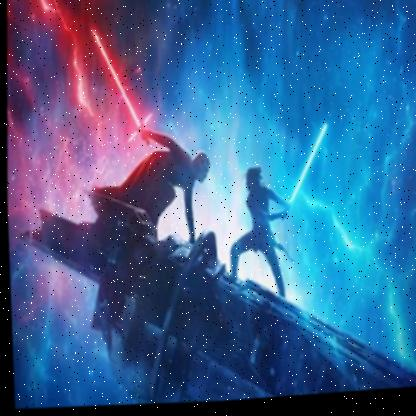lightsaber: (290, 122, 331, 207)
person: (83, 127, 215, 249), (219, 158, 295, 299)
sith_lightsaber: (84, 21, 157, 147)
